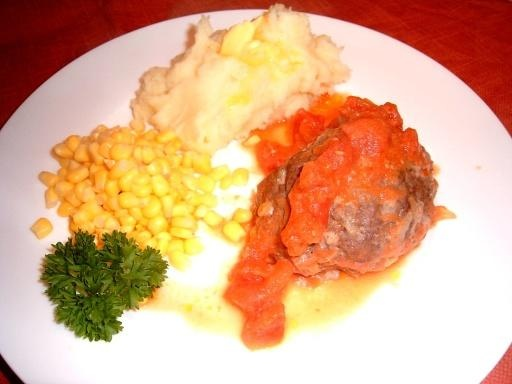background: (30, 1, 364, 210), (18, 13, 42, 143)
